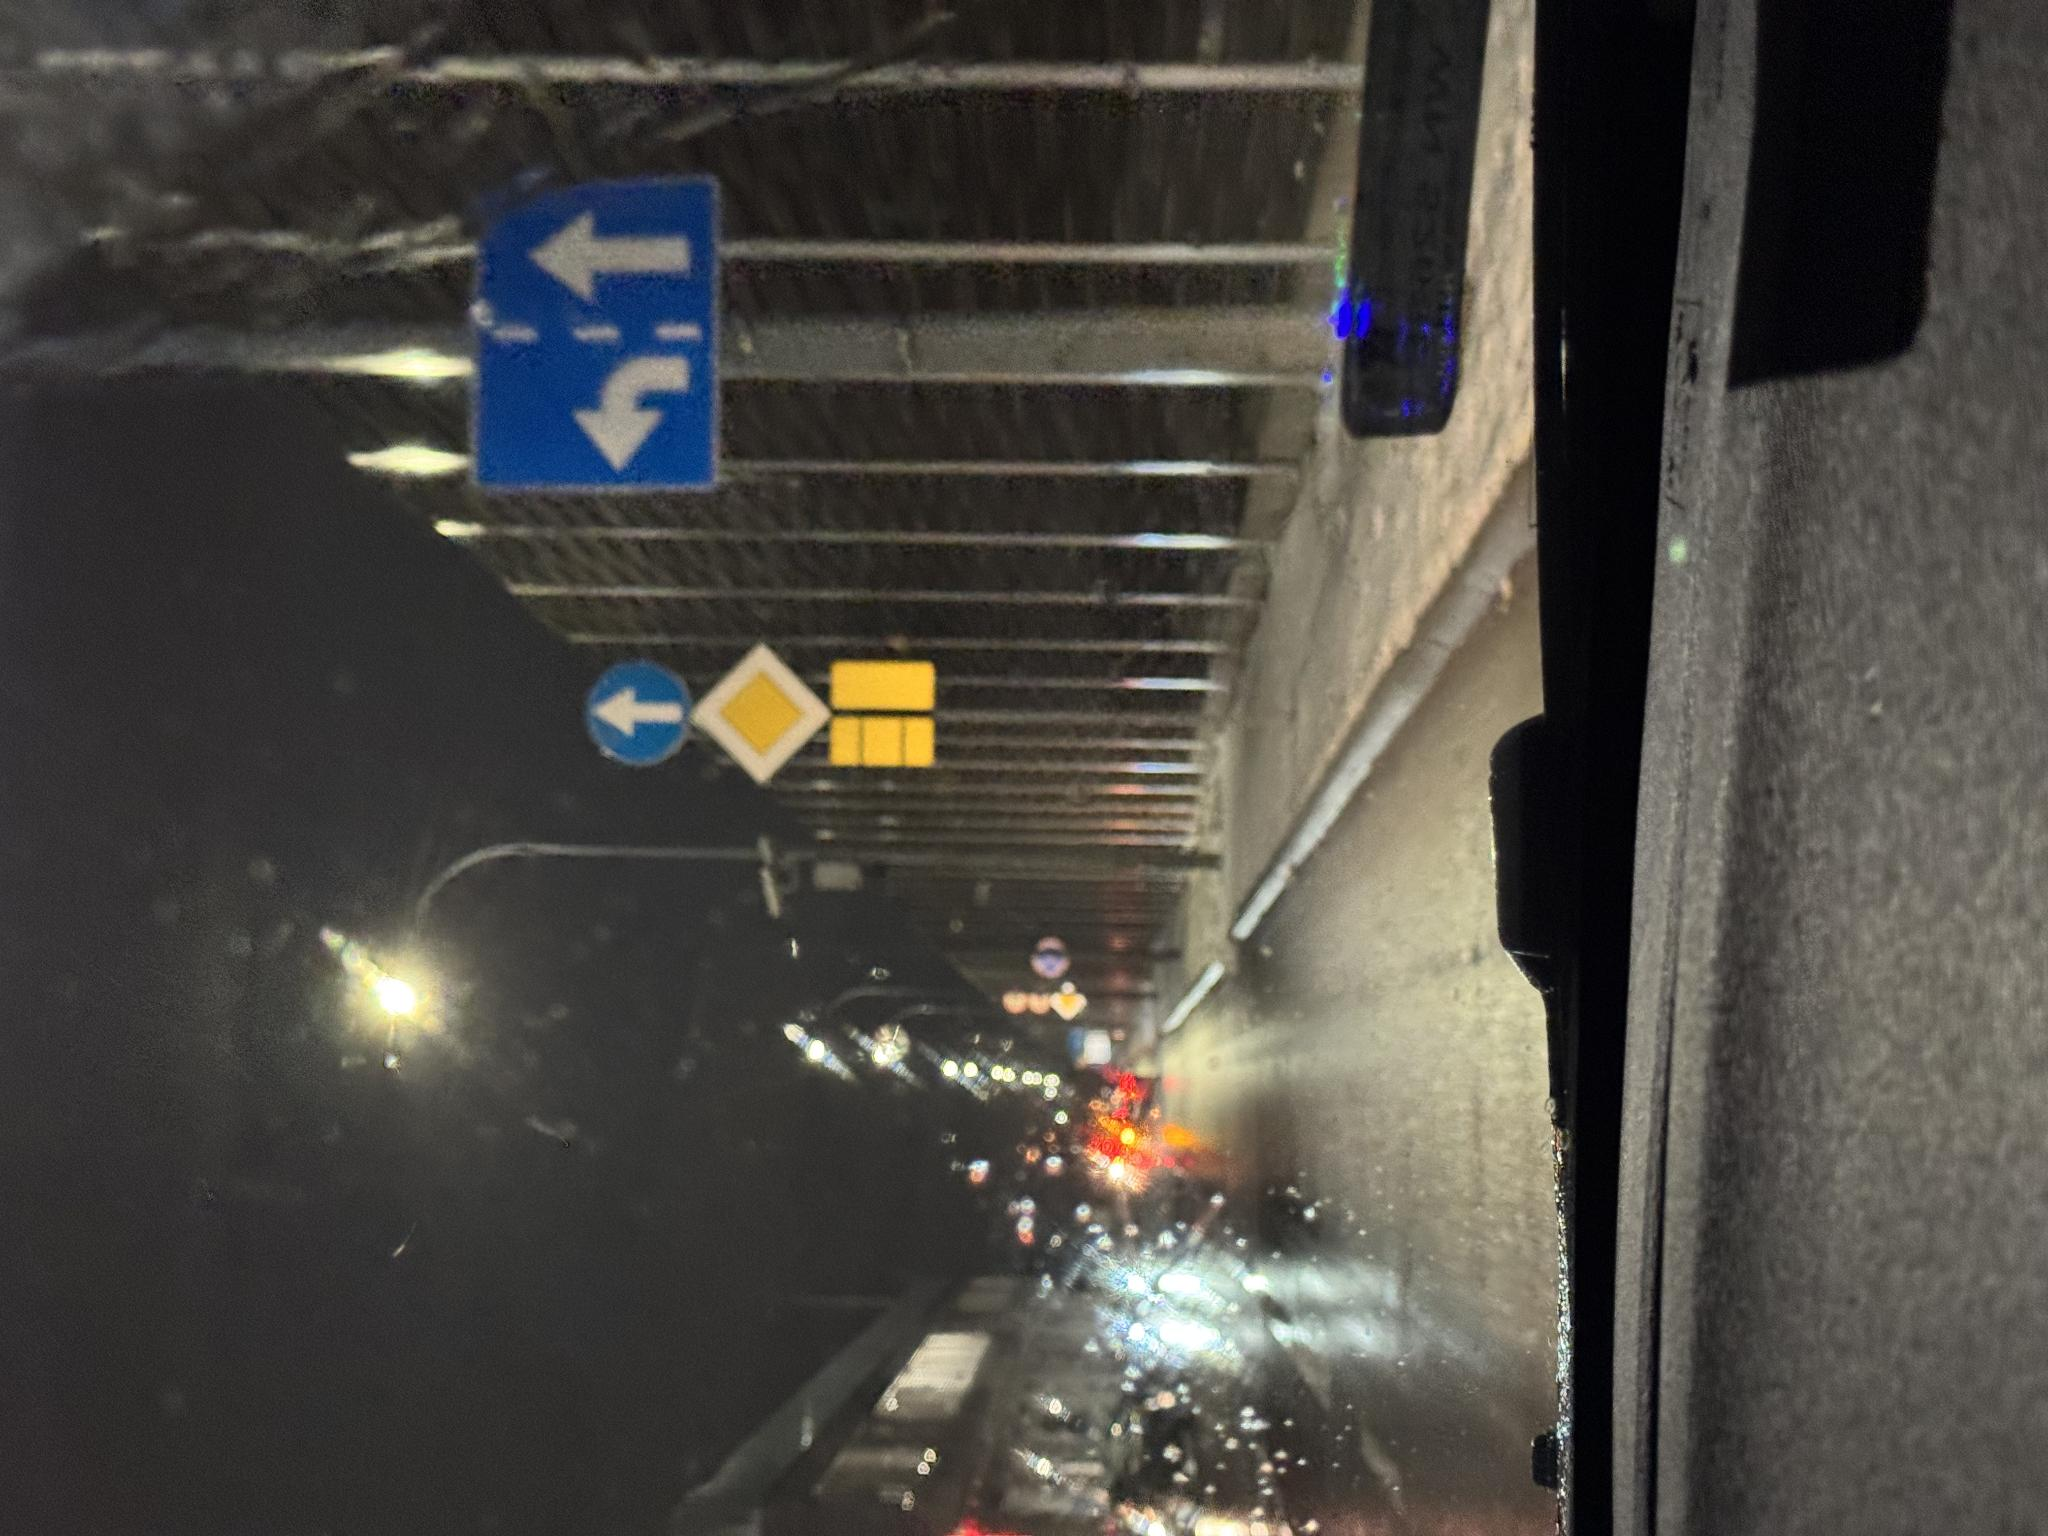information: (1040, 470, 1356, 716), (748, 699, 898, 831)
mandatory: (769, 587, 882, 695)
other: (766, 836, 882, 936)
